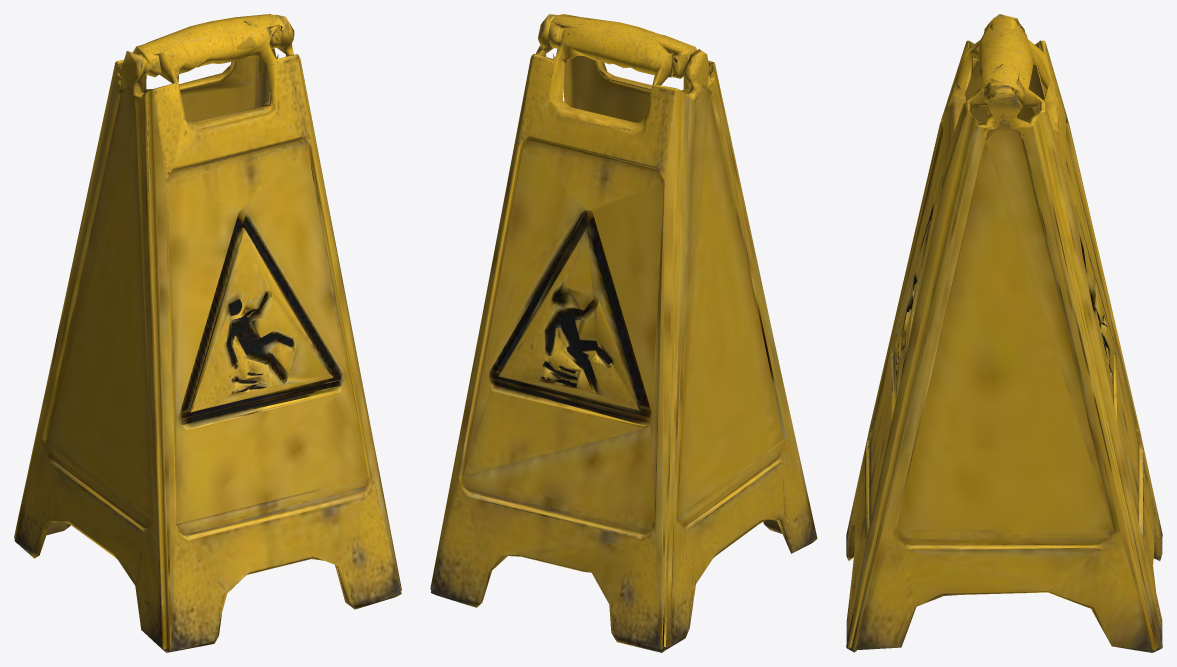
Rendered from p7-wet-floor-sign-t25.glb.
3 views of the same model, side by side, from view 1: azimuth 30°, elevation 25°; view 2: azimuth 150°, elevation 25°; view 3: azimuth 270°, elevation 25° (orthographic).
Parts seen in each view (by area): view 1: p7-wet-floor-sign-t25; view 2: p7-wet-floor-sign-t25; view 3: p7-wet-floor-sign-t25.
Boxes of the visible parts, box(x1,y1,x2,y2) form: p7-wet-floor-sign-t25: box(14, 14, 401, 652); p7-wet-floor-sign-t25: box(430, 14, 817, 652); p7-wet-floor-sign-t25: box(846, 14, 1162, 652).
Bounding box in the file's own units: 0.3 × 0.65 × 0.337.
Materials: 1 (1 with a texture image).
